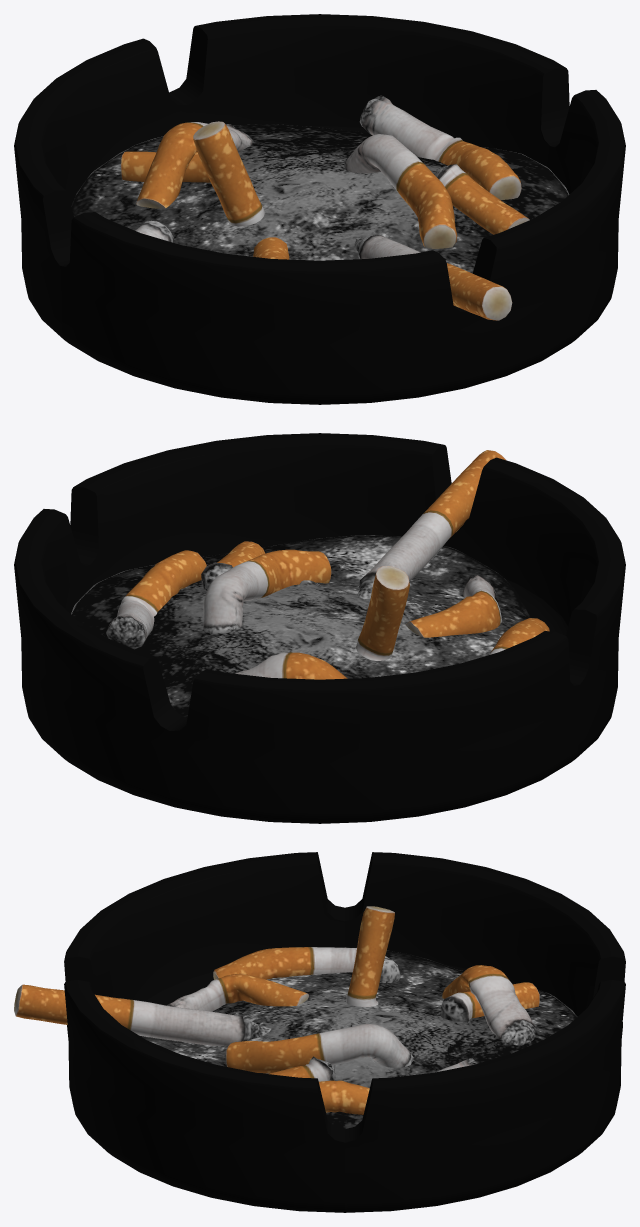
Rendered from ashtray.glb.
The picture shows the model from 3 angles, top to bottom: view 1: azimuth 30°, elevation 25°; view 2: azimuth 150°, elevation 25°; view 3: azimuth 270°, elevation 25°; orthographic projection. The views are drawn at different scales.
Visible parts, largest first — view 1: Ashtray_01 - Default_0; view 2: Ashtray_01 - Default_0; view 3: Ashtray_01 - Default_0.
Part boxes in pixels (<box>): Ashtray_01 - Default_0: <box>14,14,625,404</box>; Ashtray_01 - Default_0: <box>14,433,625,823</box>; Ashtray_01 - Default_0: <box>14,852,625,1212</box>.
Size of the model in its own units: 0.1074 by 0.0328 by 0.117.
1 material, 1 textured.
